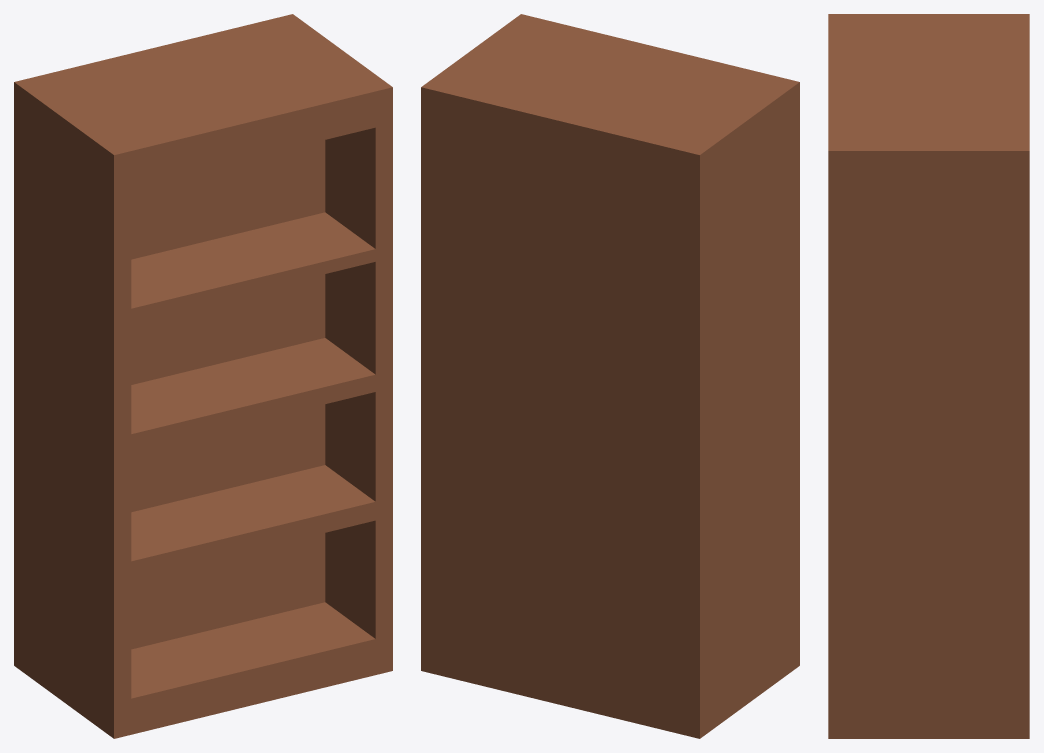
The model's file is Cupboard.fbx.
3 renders of one model, left to right at view 1: azimuth 30°, elevation 25°; view 2: azimuth 150°, elevation 25°; view 3: azimuth 270°, elevation 25°, orthographic.
Parts seen in each view (by area): view 1: Cube; view 2: Cube; view 3: Cube.
Part boxes in pixels (x1,y1,x2,y2): Cube: (14, 14, 392, 738); Cube: (421, 14, 799, 738); Cube: (828, 14, 1029, 738).
Bounding box in the file's own units: 183 × 365 × 113.
